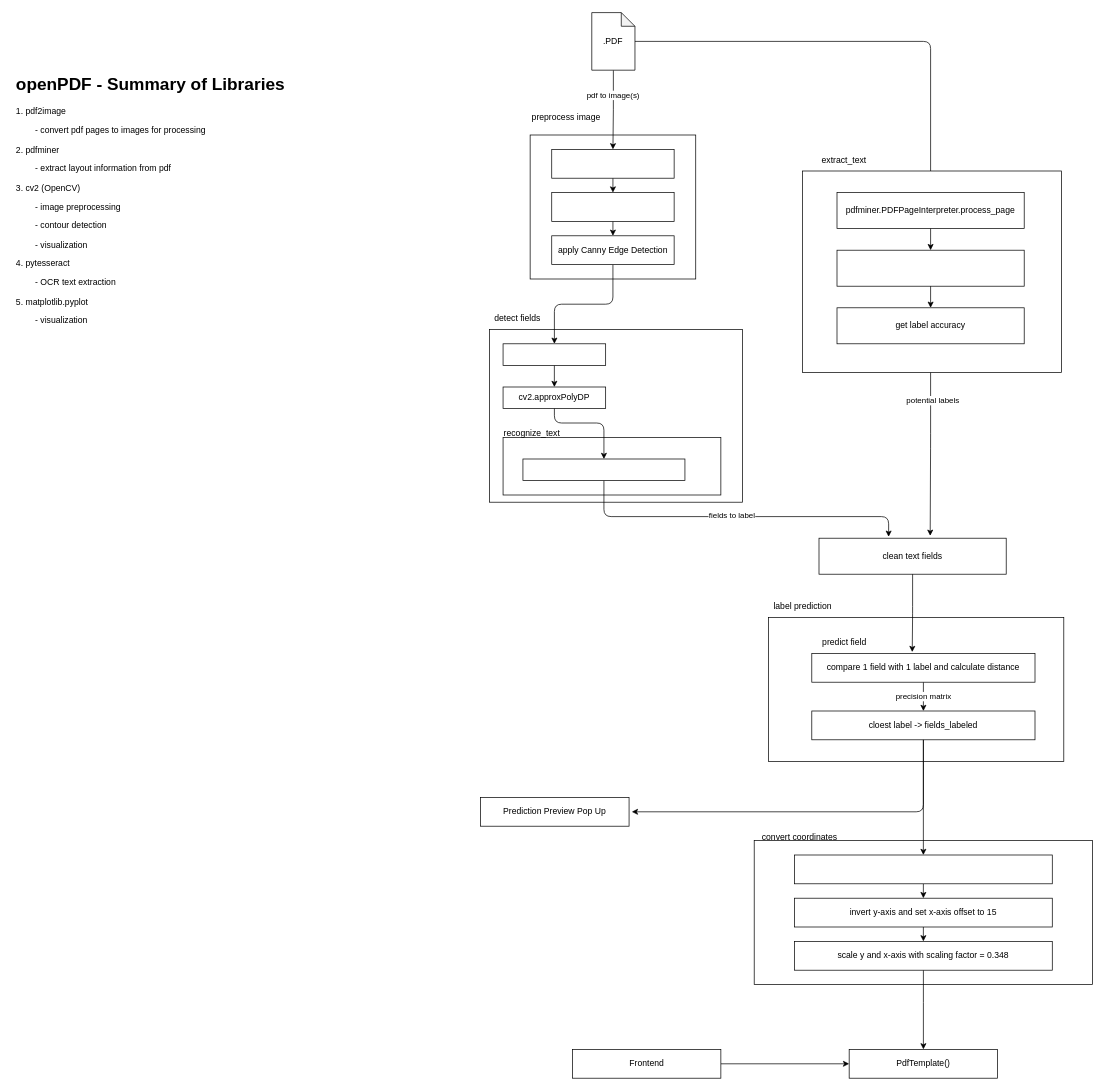
This 1105x1091 diagram has some shape labels left out. The shapes that lost their labels are listed below. From the top down, each one's centre as x and y in pixels, then its label:
At (612,163): "convert to gray scale".
At (612,206): "apply Gaussian Blur".
At (930,267): "convert pdfminer to opencv coordinates".
At (554,354): "cv2.findContours".
At (603,469): "pytesseract.image_to_string".
At (923,869): "increase offset with larger distance to the middle = size/2".
